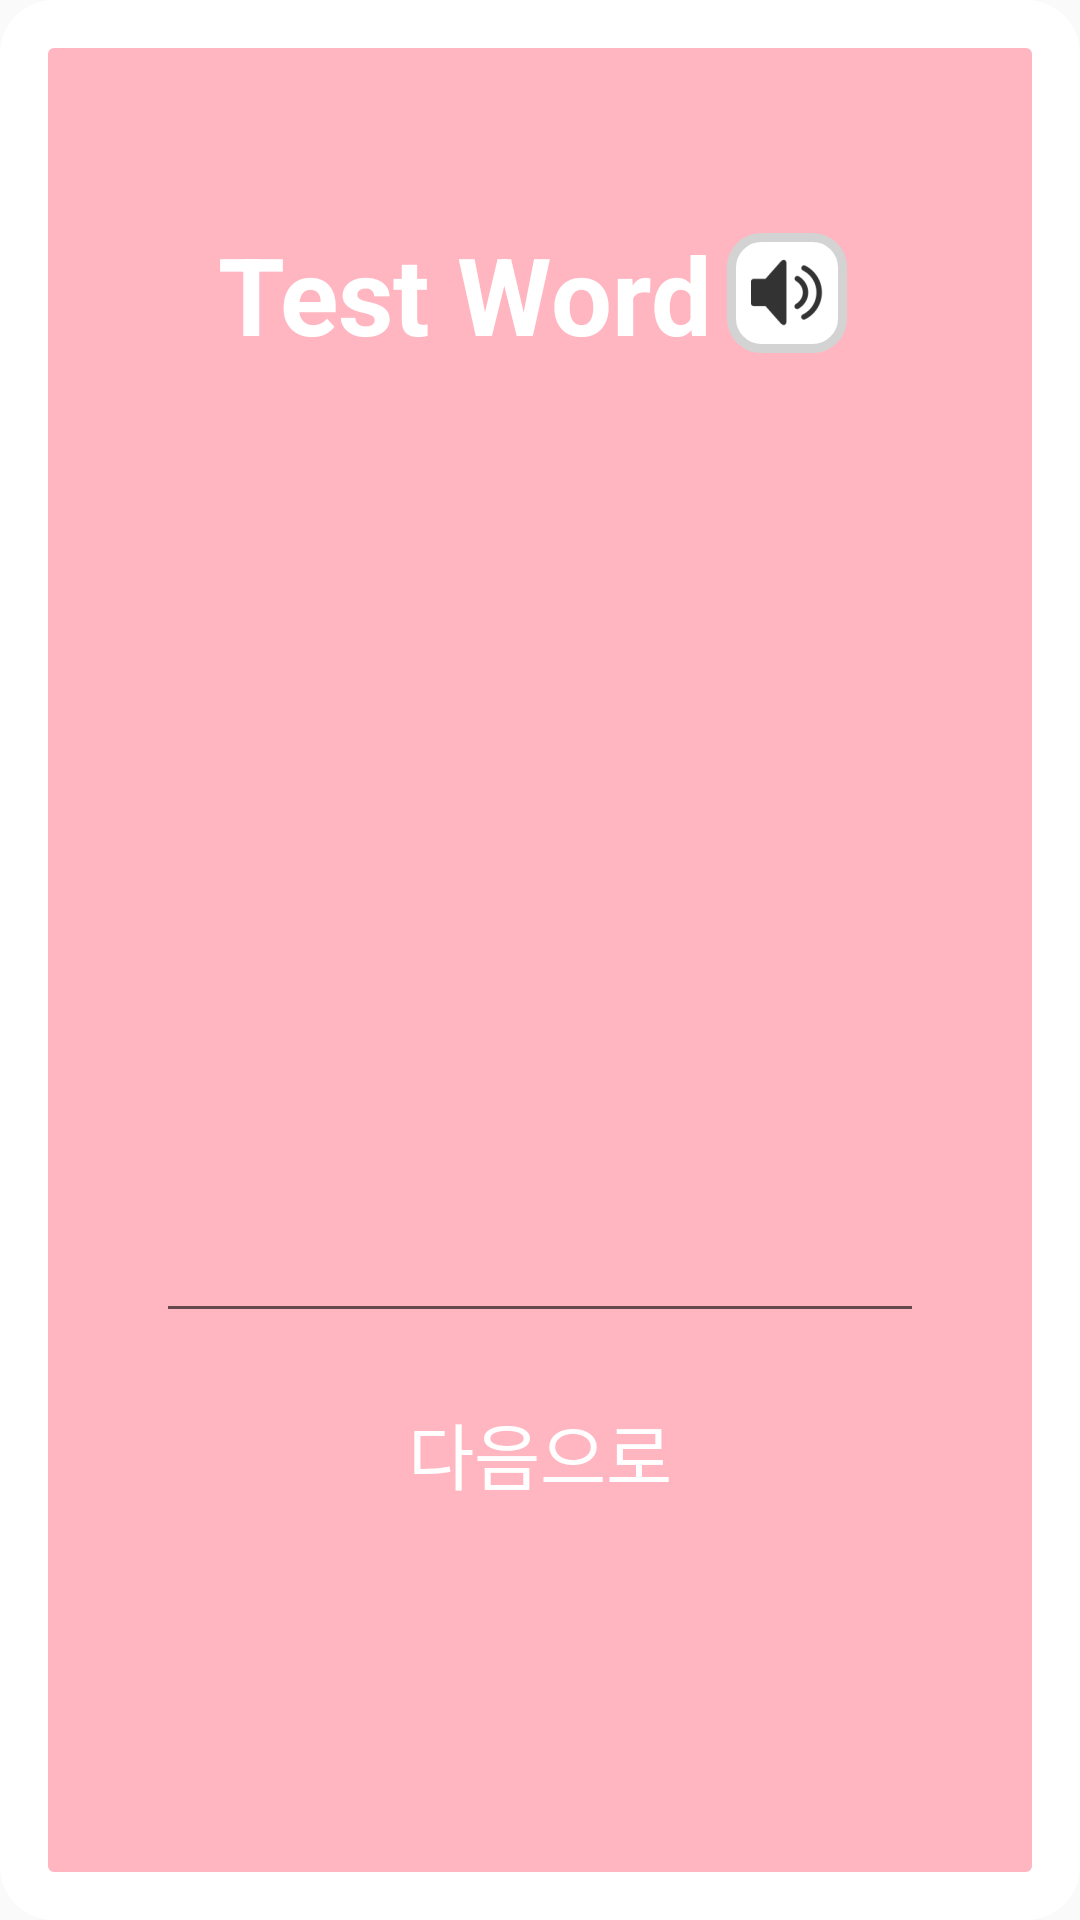

Screen size 1080x1920. Icon name, then its center in pixels as point (x, y):
Speaker image: point (787, 293)
